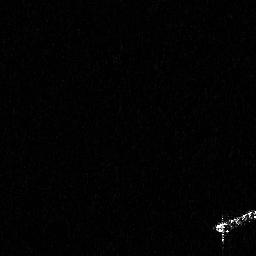ship: (212, 206, 256, 251)
